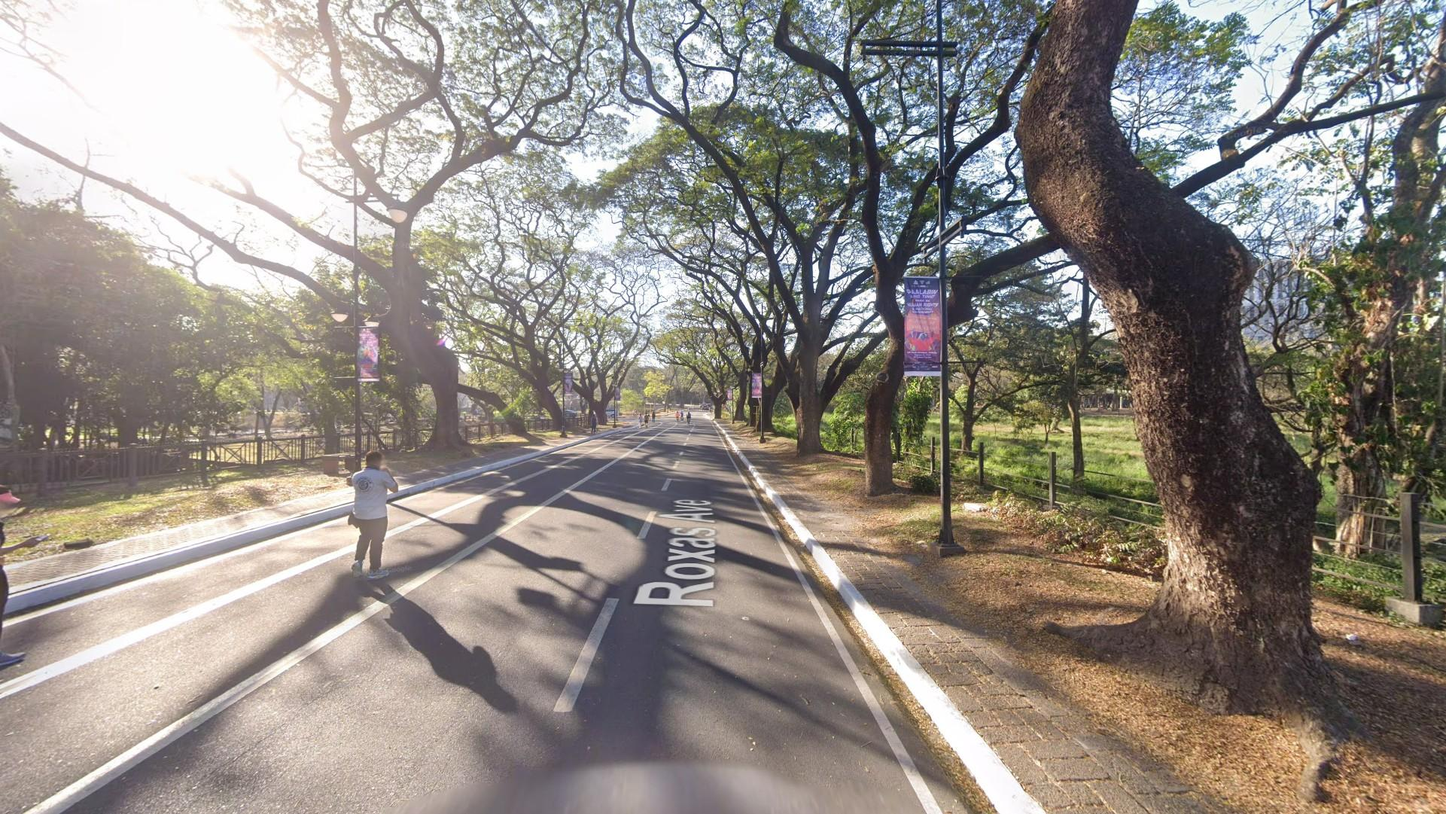cyclist: (686, 410, 692, 425), (679, 409, 684, 422), (676, 410, 680, 422)
pedestrian: (344, 449, 399, 582), (590, 413, 597, 435), (643, 412, 649, 429), (638, 412, 643, 429), (651, 410, 656, 422)
